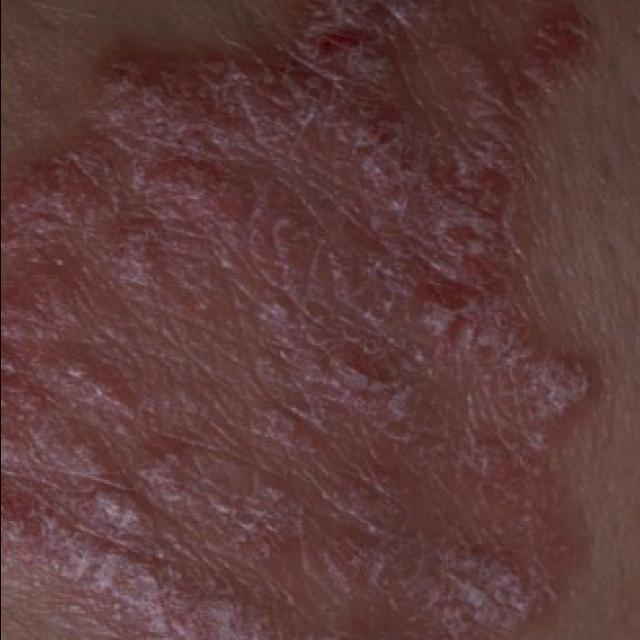Psoriasis: (0, 0, 590, 640)
